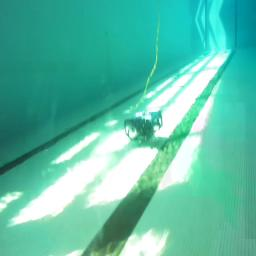Side: (124, 110, 163, 142)
